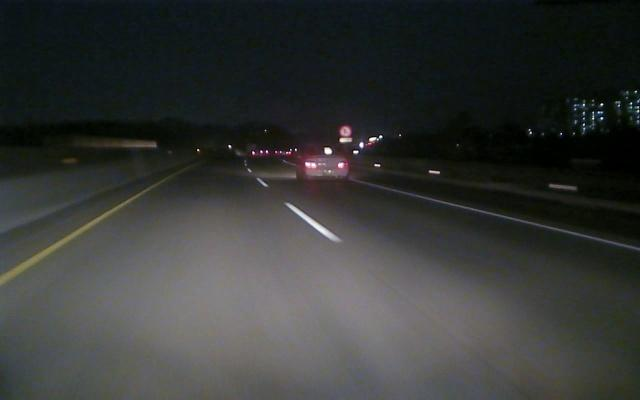lane: (363, 183, 638, 252), (1, 200, 129, 285), (253, 177, 343, 242)
